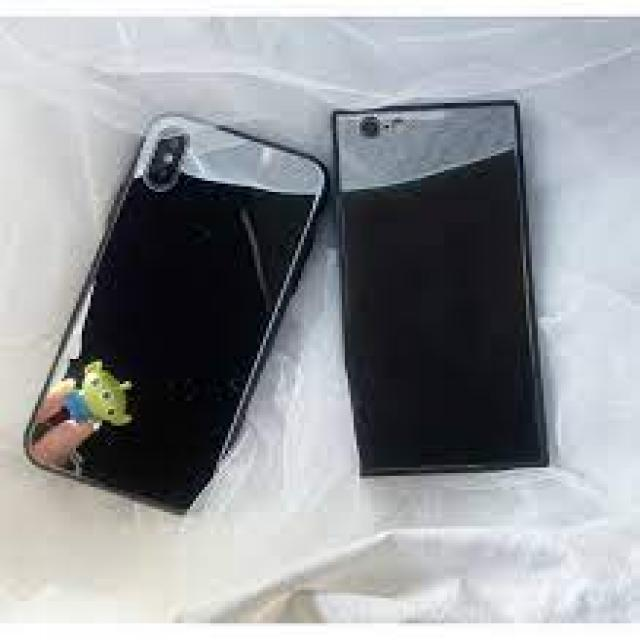Phone: (15, 109, 336, 518), (327, 96, 556, 482)
